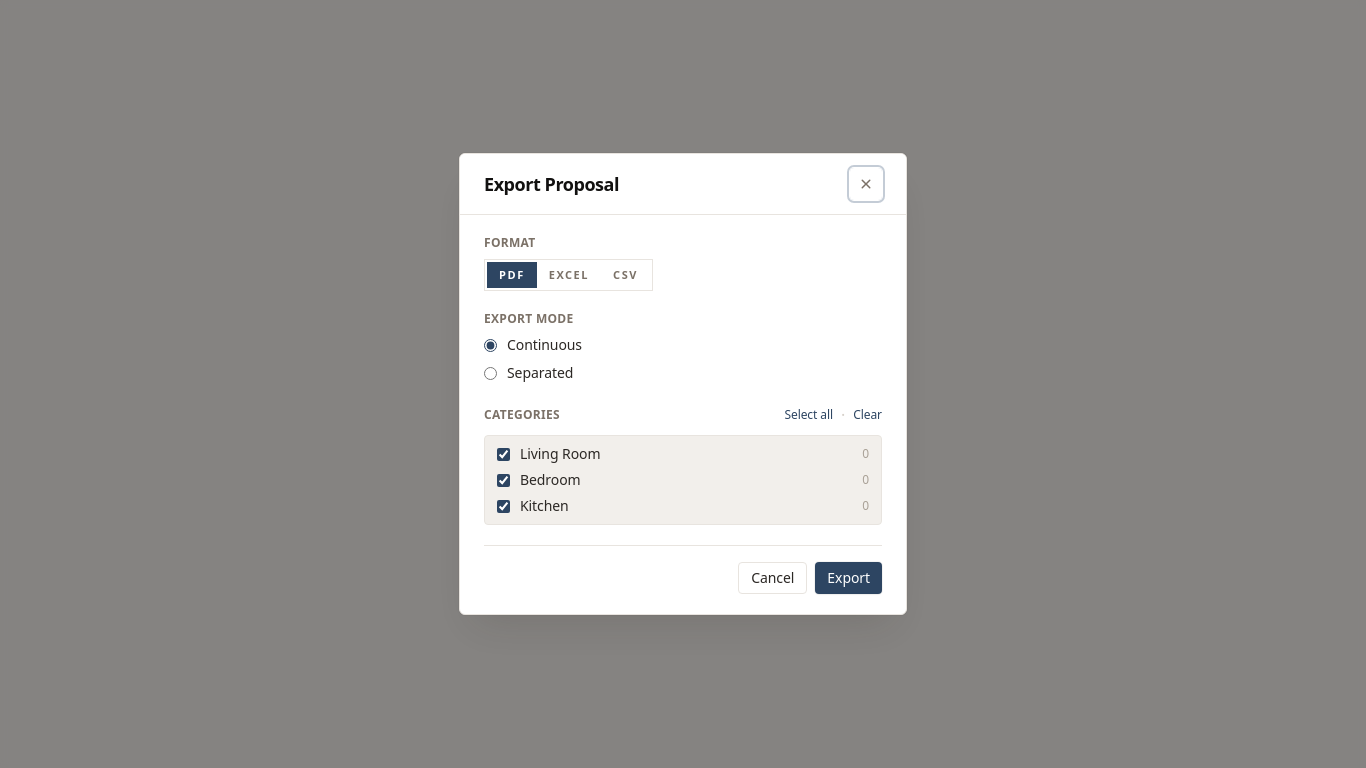
Test: ProposalExportModal › Export button is disabled when no categories are selected
Step 1. Click the button "Clear" → (868, 415), box left=853, top=403, right=882, bottom=427
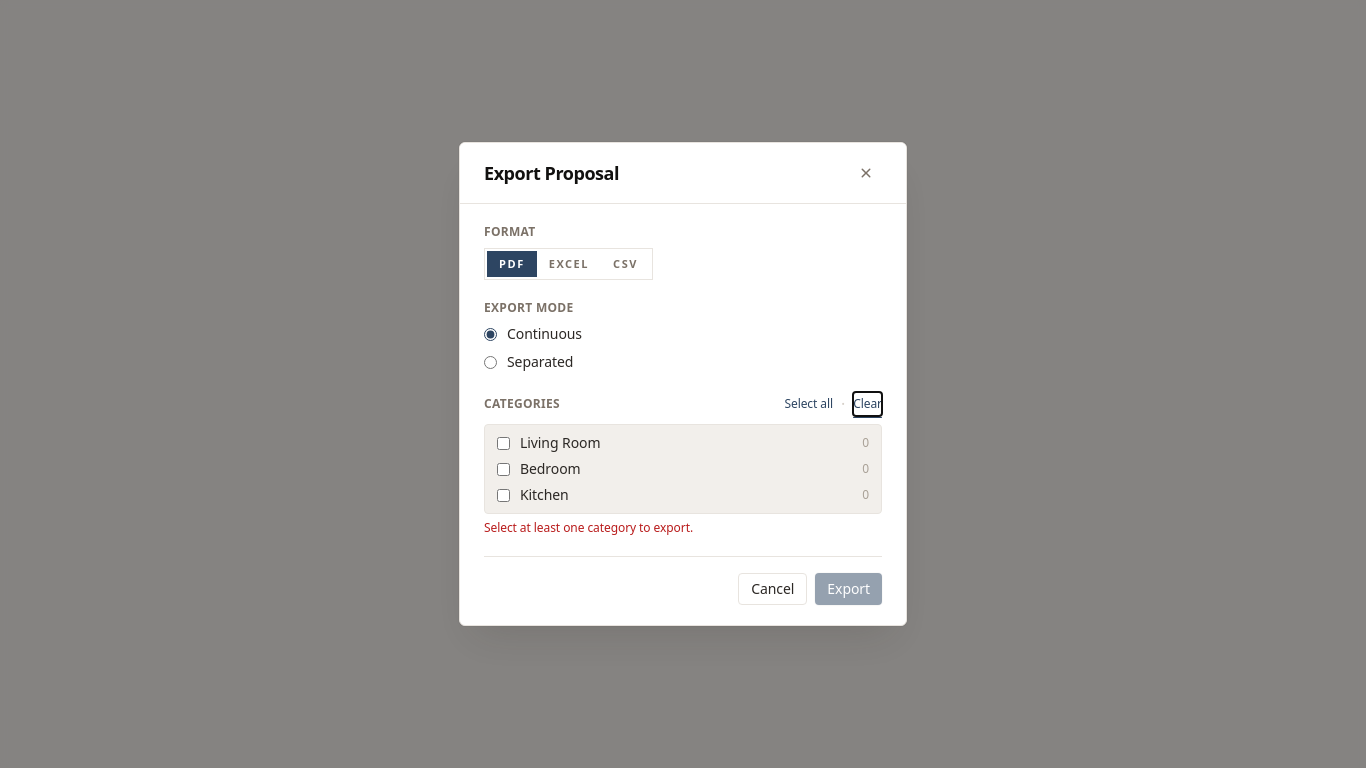
Result: the button "Export" is disabled at left=815, top=573, right=882, bottom=605
Result: the text "Select at least one category to export." is shown at left=484, top=519, right=693, bottom=536
